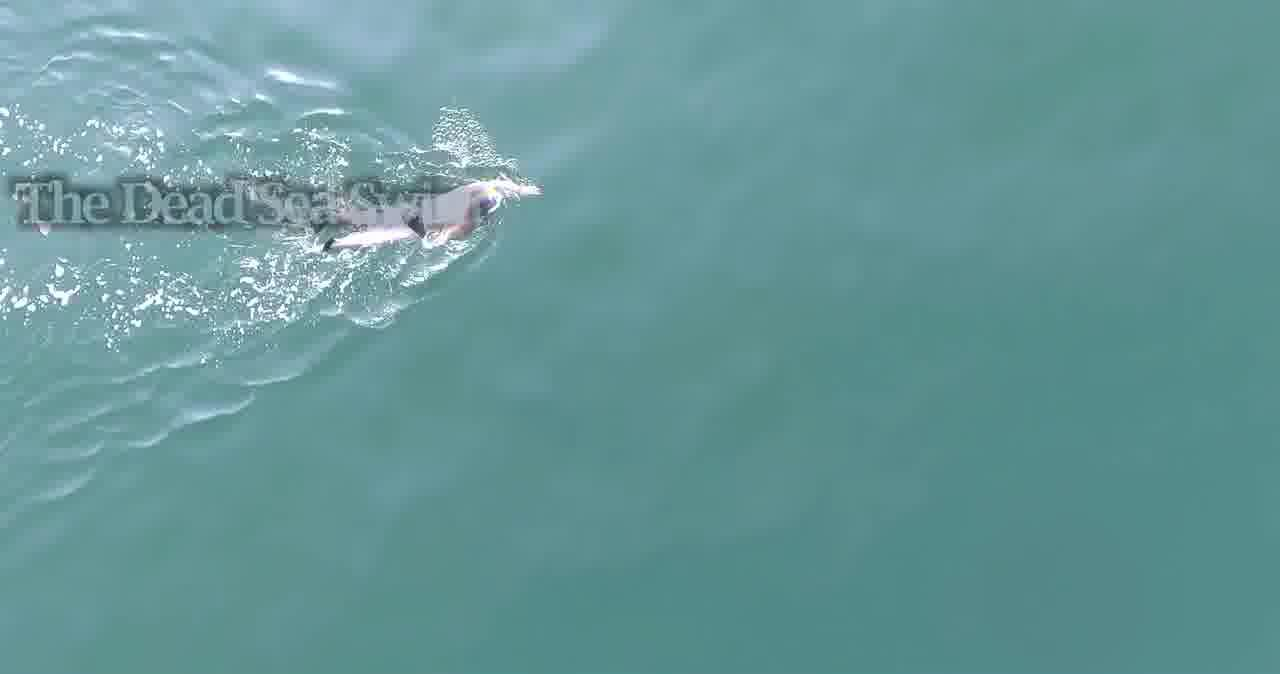swimmer: (325, 173, 538, 254)
